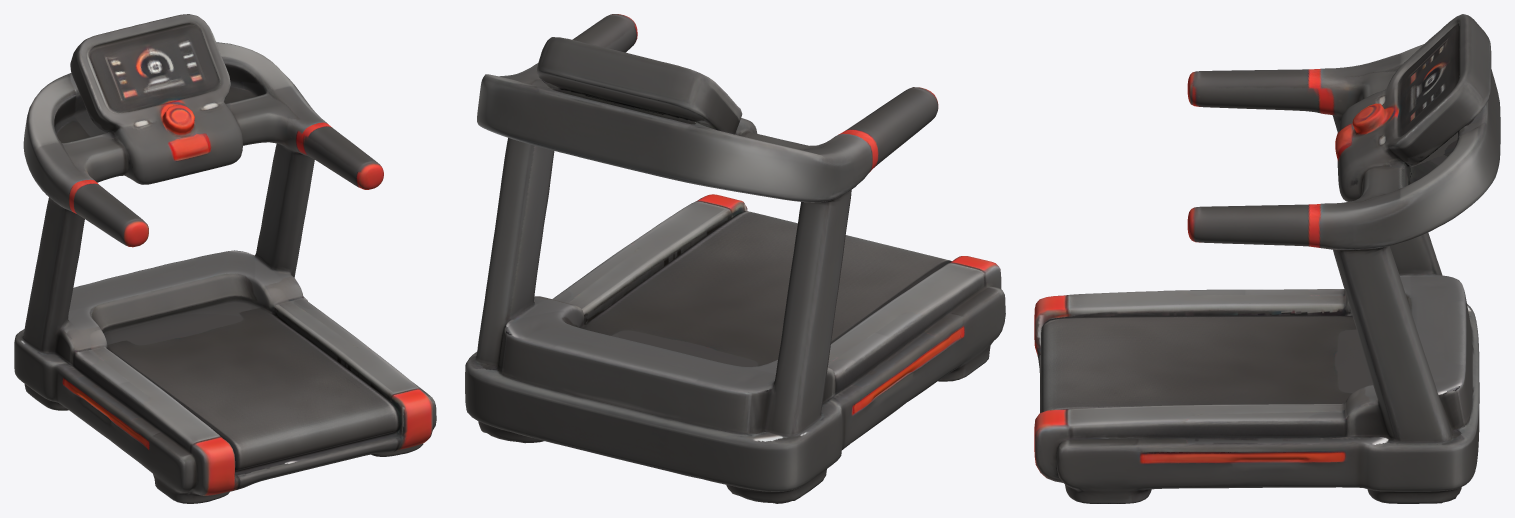
File: treadmill.glb
3 renders of one model, left to right at view 1: azimuth 30°, elevation 25°; view 2: azimuth 150°, elevation 25°; view 3: azimuth 270°, elevation 25°, orthographic. The views are drawn at different scales.
Visible parts, largest first — view 1: model; view 2: model; view 3: model.
Boxes of the visible parts, x1=… form: model: x1=14, y1=14, x2=436, y2=503; model: x1=465, y1=14, x2=1005, y2=503; model: x1=1034, y1=14, x2=1500, y2=503.
Bounding box in the file's own units: 1.47 × 1.77 × 1.9.
Materials: 1 (1 with a texture image).
